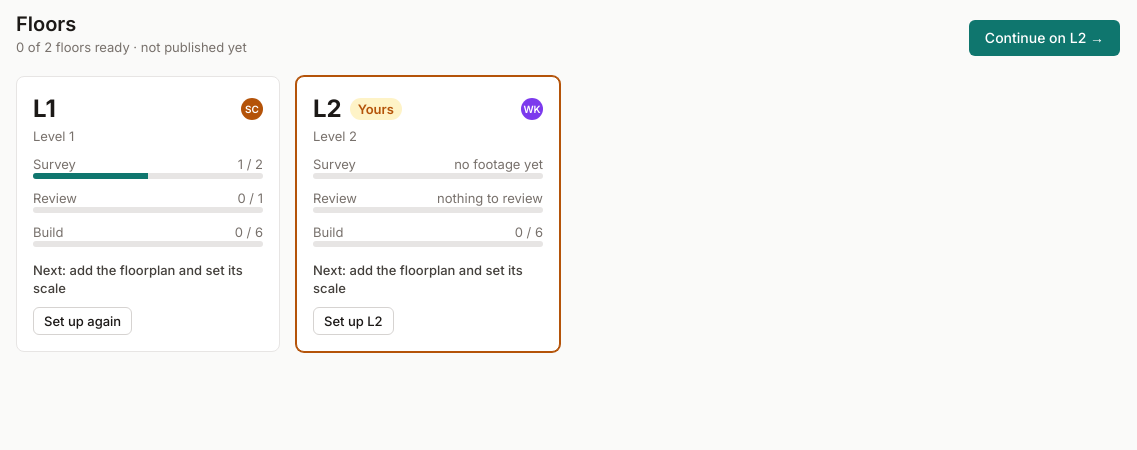
Test: FloorsHome — setting a floor up › reloads the floor's setup after a restart partly fails, so the card isn't left stale
Click the button "Set up again" at [83, 321], box x1=33 y1=307 x2=132 y2=335
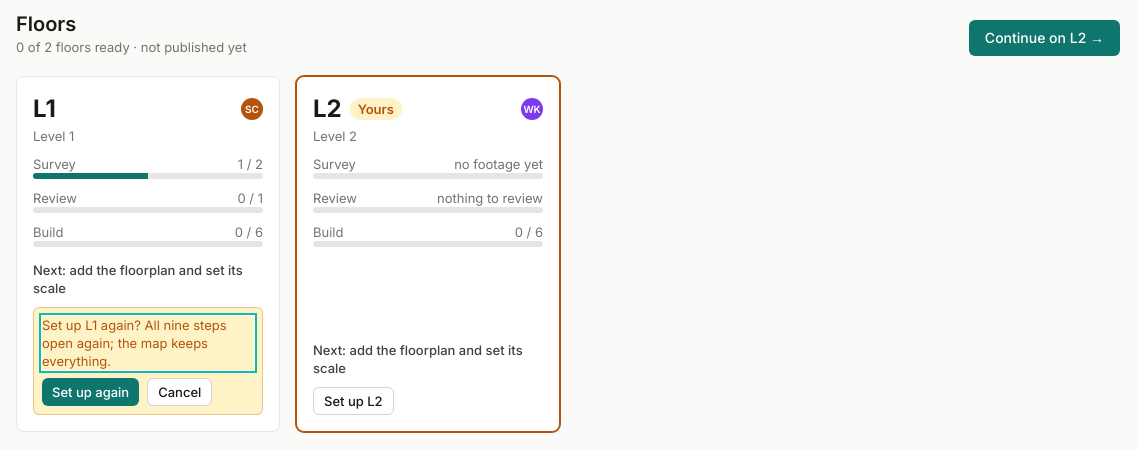
Click the button "Set up again" at [91, 392], box x1=42 y1=378 x2=139 y2=406
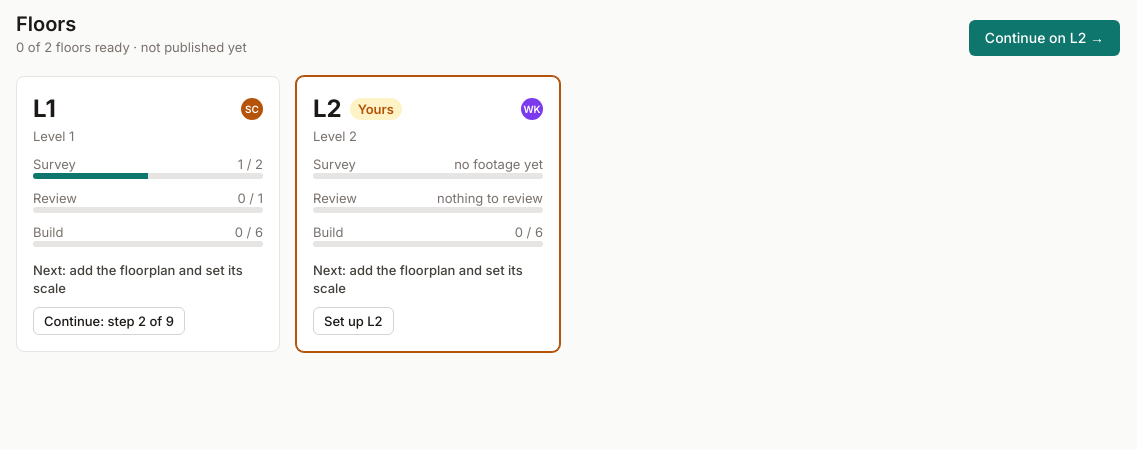
Now the link "Continue: step 2 of 9" is shown, box x1=33 y1=307 x2=185 y2=335
